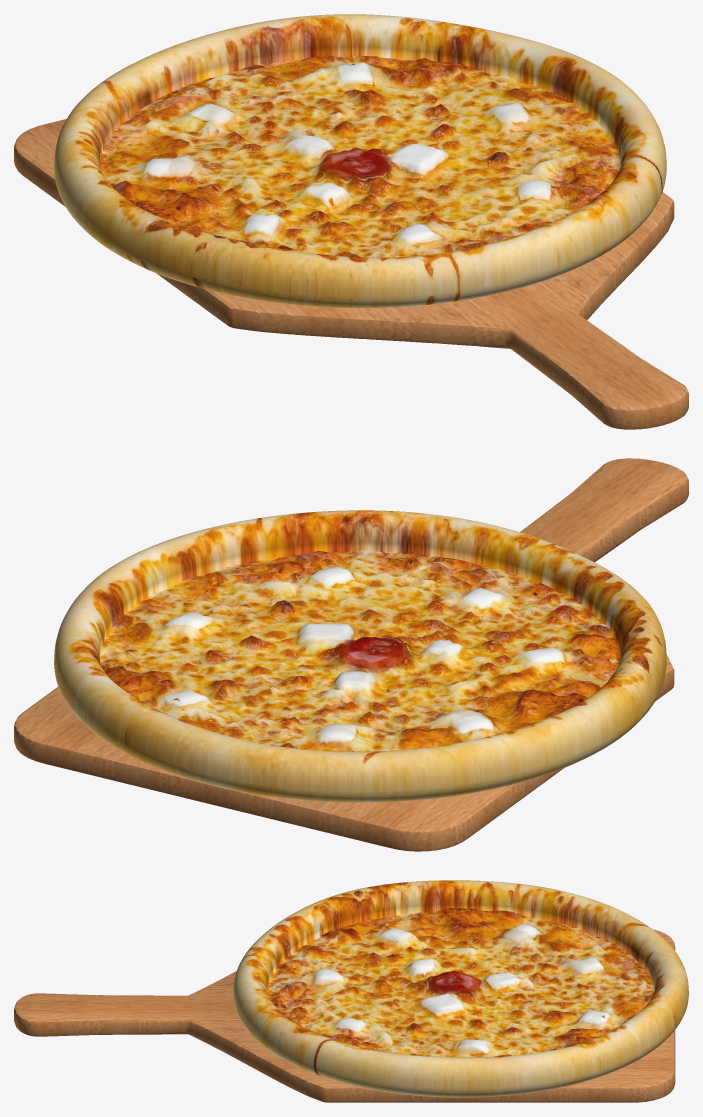
Rendered from pizza-margherita.glb.
3 views of the same model, one above another, from view 1: azimuth 30°, elevation 25°; view 2: azimuth 150°, elevation 25°; view 3: azimuth 270°, elevation 25° (orthographic). The views are drawn at different scales.
Visible parts, largest first — view 1: pizza-margherita, peel.001; view 2: pizza-margherita, peel.001; view 3: pizza-margherita, peel.001.
Part boxes in pixels (x1=…): pizza-margherita: x1=54, y1=14, x2=666, y2=307; peel.001: x1=14, y1=119, x2=688, y2=429; pizza-margherita: x1=54, y1=510, x2=666, y2=802; peel.001: x1=14, y1=458, x2=688, y2=851; pizza-margherita: x1=233, y1=880, x2=688, y2=1097; peel.001: x1=14, y1=929, x2=675, y2=1102.
Bounding box in the file's own units: 0.3 × 0.0398 × 0.4444.
3 materials, 2 textured.
